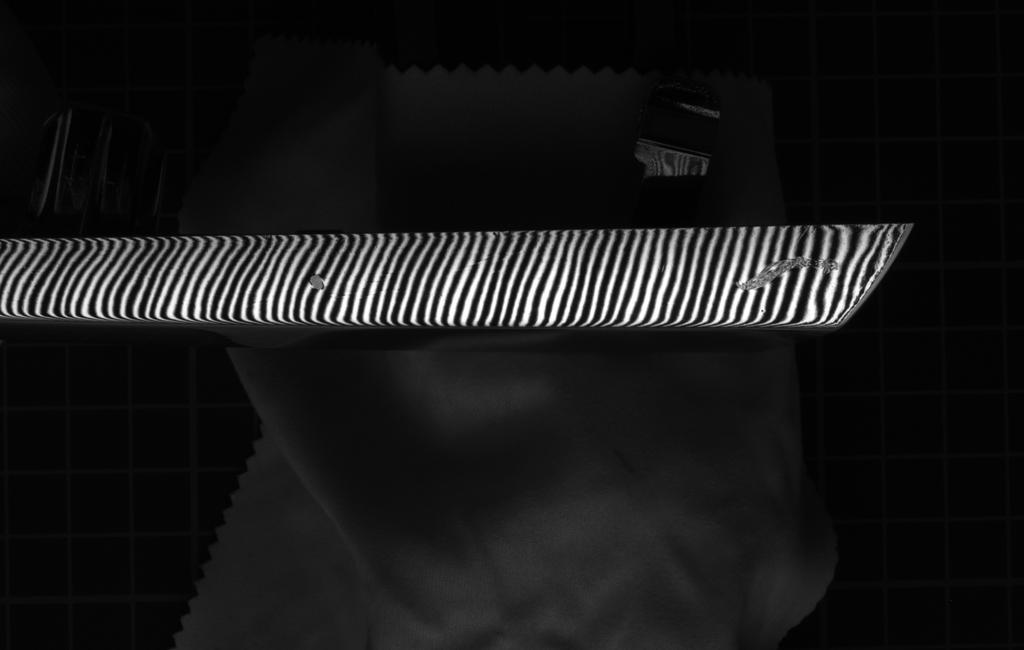Pierced: (296, 266, 337, 296)
Scratch: (721, 252, 850, 306)
